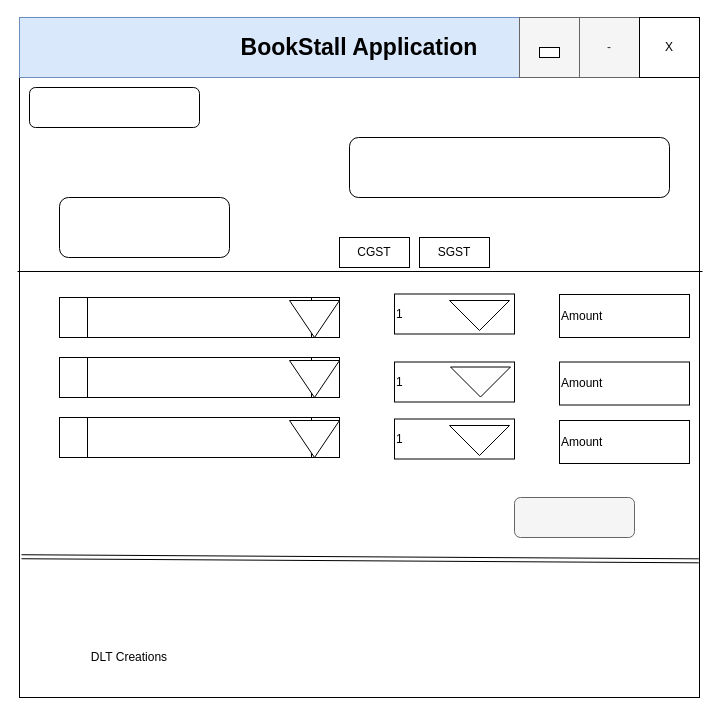
Some shapes in this 721 by 715 pixel diagram are drawn without their labels. Each missing label, with the centre of its shape:
"HI UserName" belongs at [114,107].
"Inventory" belongs at [509,167].
"Print Bill" belongs at [574,517].
"Sale" belongs at [144,227].
